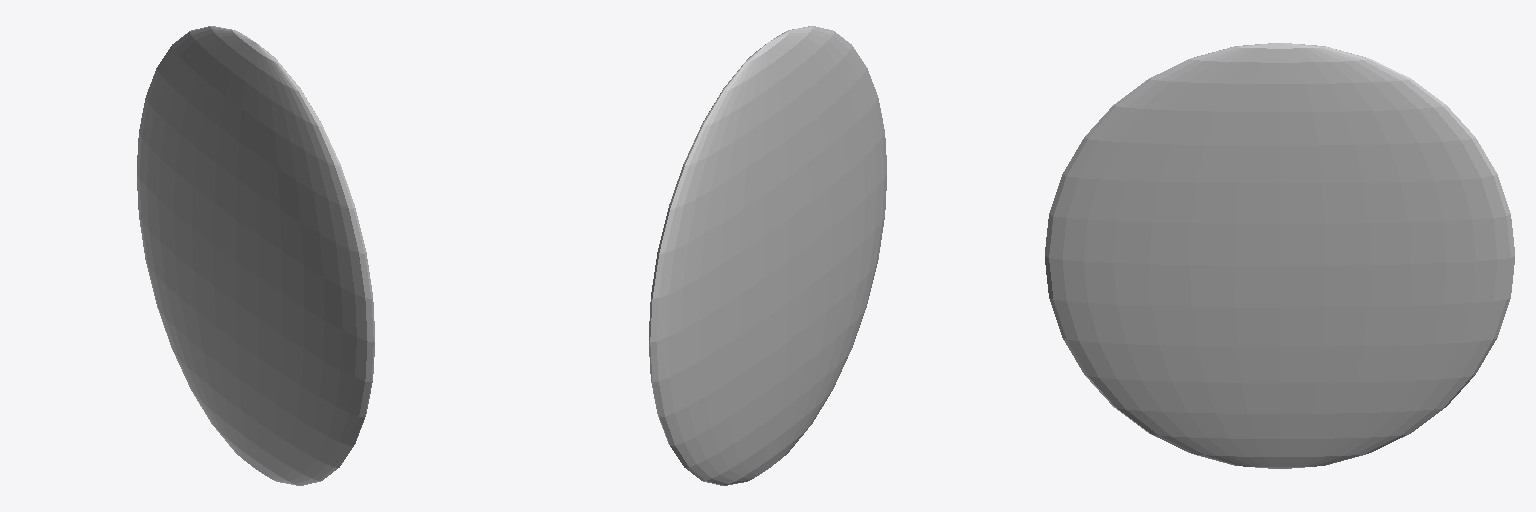
File: silverCoin.obj
3 views of the same model, side by side, from view 1: azimuth 30°, elevation 25°; view 2: azimuth 150°, elevation 25°; view 3: azimuth 270°, elevation 25° (orthographic).
Parts seen in each view (by area): view 1: 球; view 2: 球; view 3: 球.
Part boxes in pixels (bbox=[...]): 球: bbox=[137, 26, 374, 485]; 球: bbox=[649, 26, 886, 485]; 球: bbox=[1045, 43, 1514, 468].
Bounding box in the file's own units: 0.2 × 2 × 2.